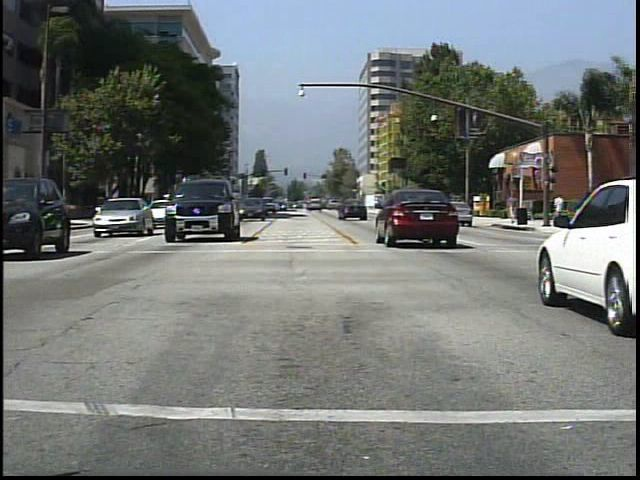person: (507, 190, 520, 226), (554, 191, 570, 215)
